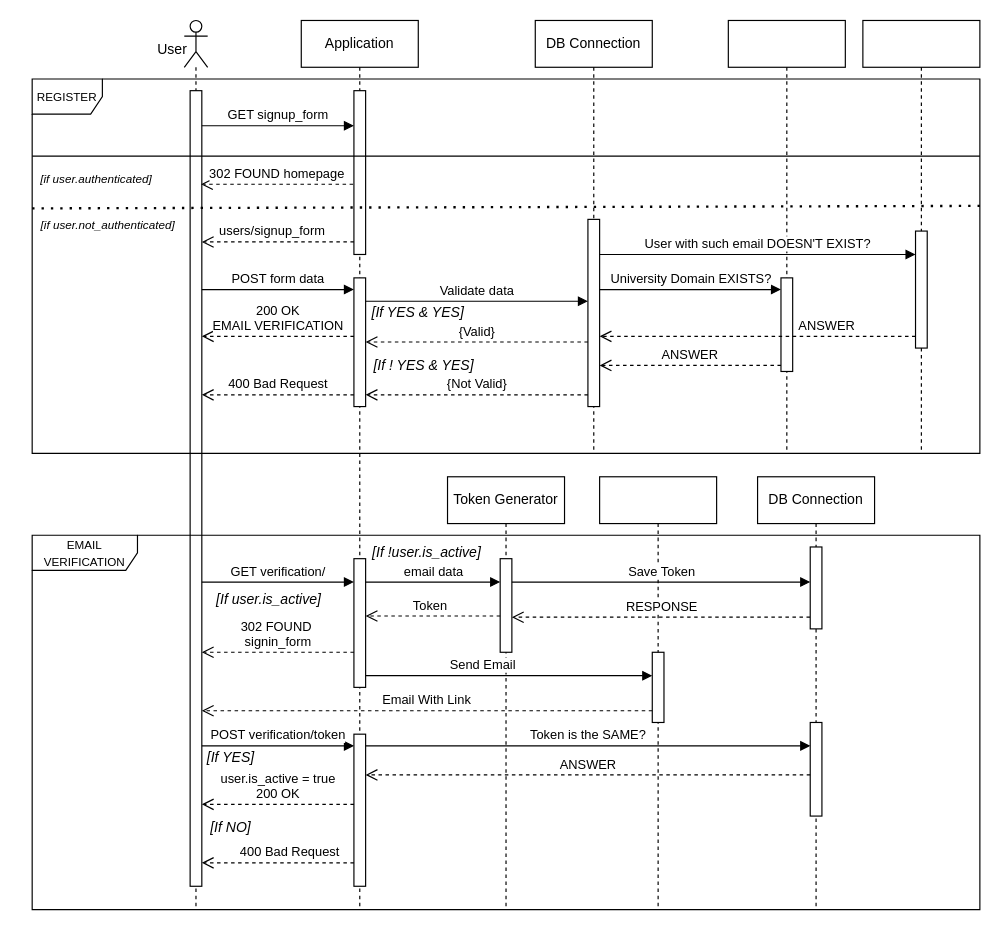
Some shapes in this 1002 by 930 pixel diagram are drawn without their labels. Each missing label, with the centre of its shape:
Email Provider: (x=657, y=693)
University Table: (x=786, y=236)
Users Table: (x=921, y=236)
